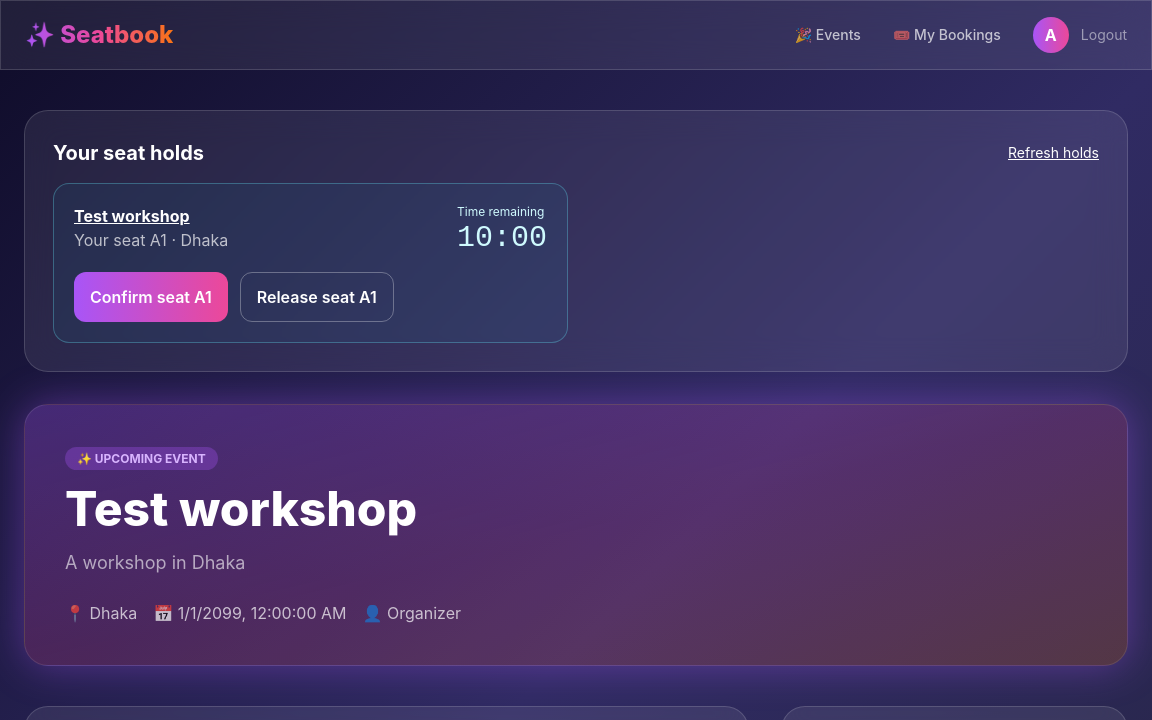
Test: confirms a hold and refreshes the booked seat without using immediate booking
The width and height of the screenshot is (1152, 720).
Click the button "Confirm seat A1": [151, 297] box [74,272,228,322]
(page scrolled)
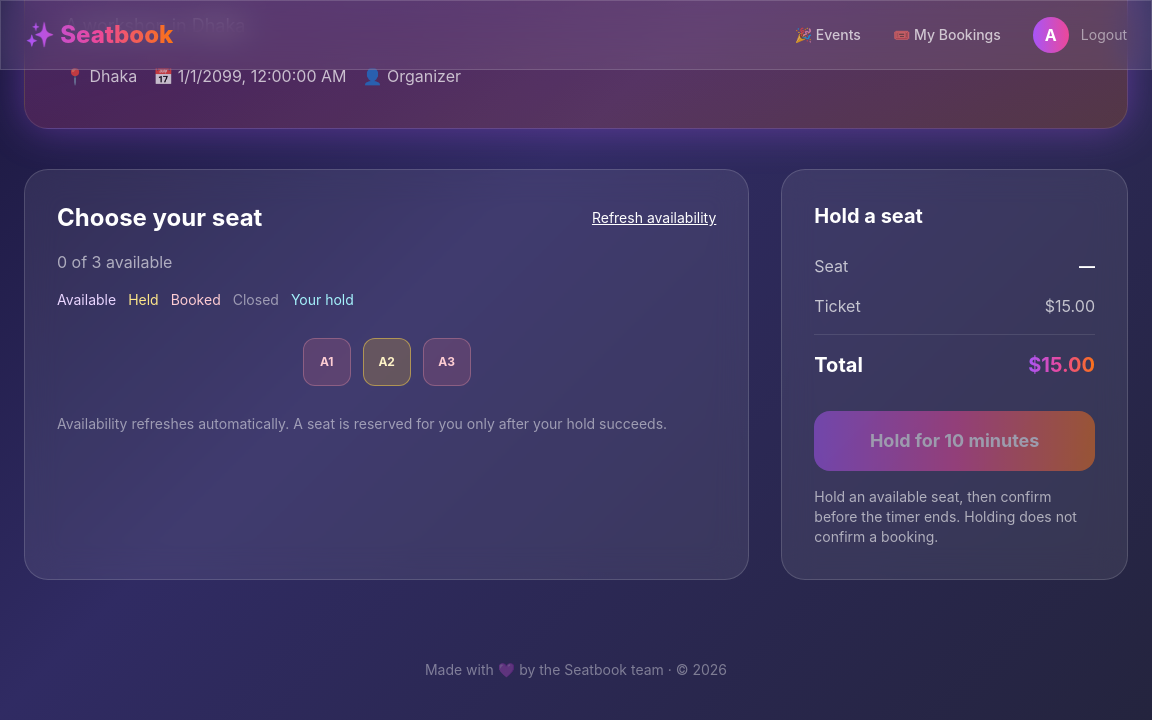
Now the button named "Seat A1, booked" is shown, box [303,338,351,386]
